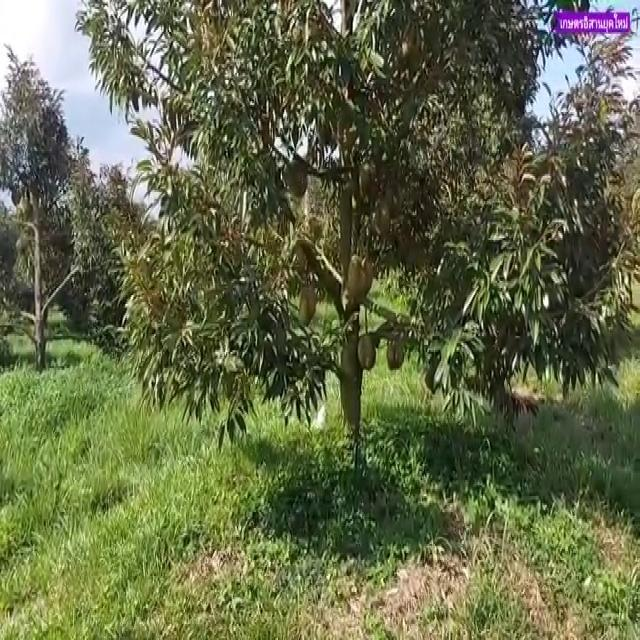durian: (344, 250, 376, 312), (283, 154, 310, 202), (296, 280, 319, 332), (384, 327, 408, 375), (356, 330, 378, 372)
